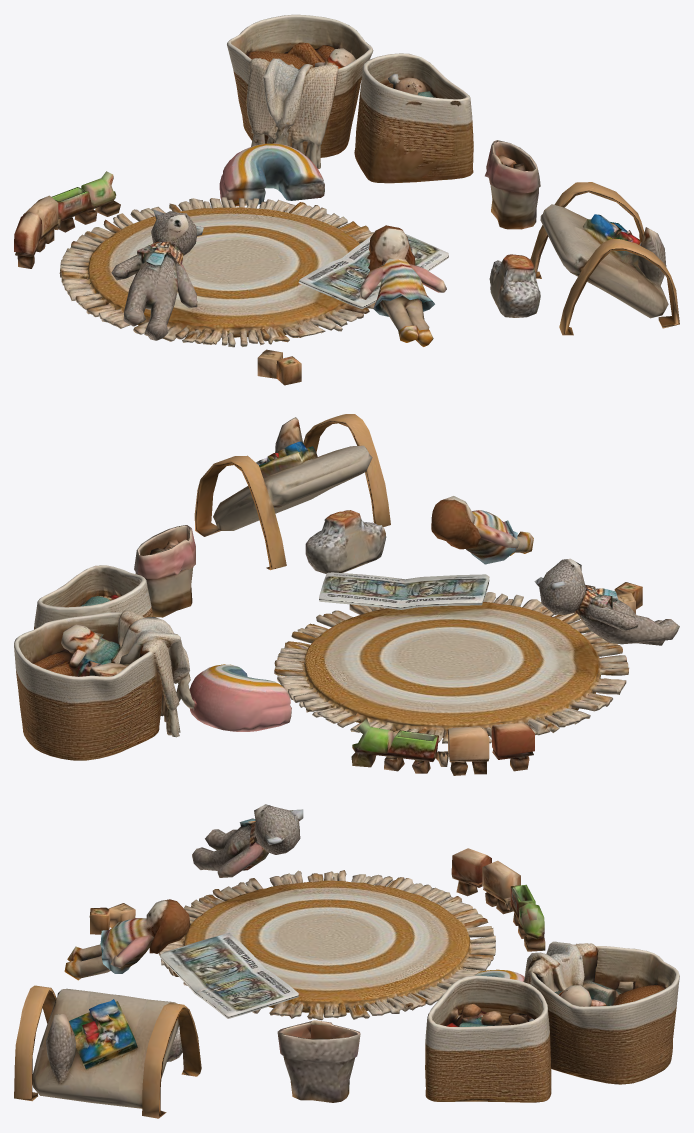
Rendered from scene_woven_nook.glb.
3 renders of one model, top to bottom at view 1: azimuth 30°, elevation 25°; view 2: azimuth 150°, elevation 25°; view 3: azimuth 270°, elevation 25°, orthographic. The views are drawn at different scales.
Visible parts, largest first — view 1: tripo_node_5dc2ba76-53fa-4e25-bd47-c745dab84666; view 2: tripo_node_5dc2ba76-53fa-4e25-bd47-c745dab84666; view 3: tripo_node_5dc2ba76-53fa-4e25-bd47-c745dab84666.
Part boxes in pixels (x1,y1,x2,y2): tripo_node_5dc2ba76-53fa-4e25-bd47-c745dab84666: [14, 14, 679, 385]; tripo_node_5dc2ba76-53fa-4e25-bd47-c745dab84666: [14, 414, 679, 775]; tripo_node_5dc2ba76-53fa-4e25-bd47-c745dab84666: [14, 804, 679, 1118].
Size of the model in its own units: 0.8358 by 0.1842 by 0.9805.
Materials: 1 (1 with a texture image).
